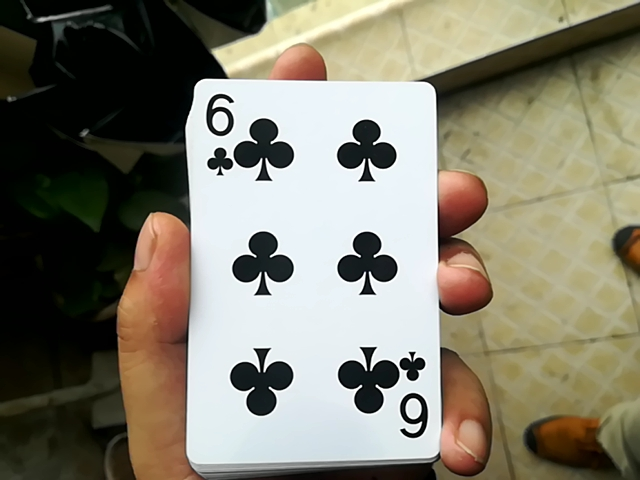mh 6: (174, 73, 445, 466)
